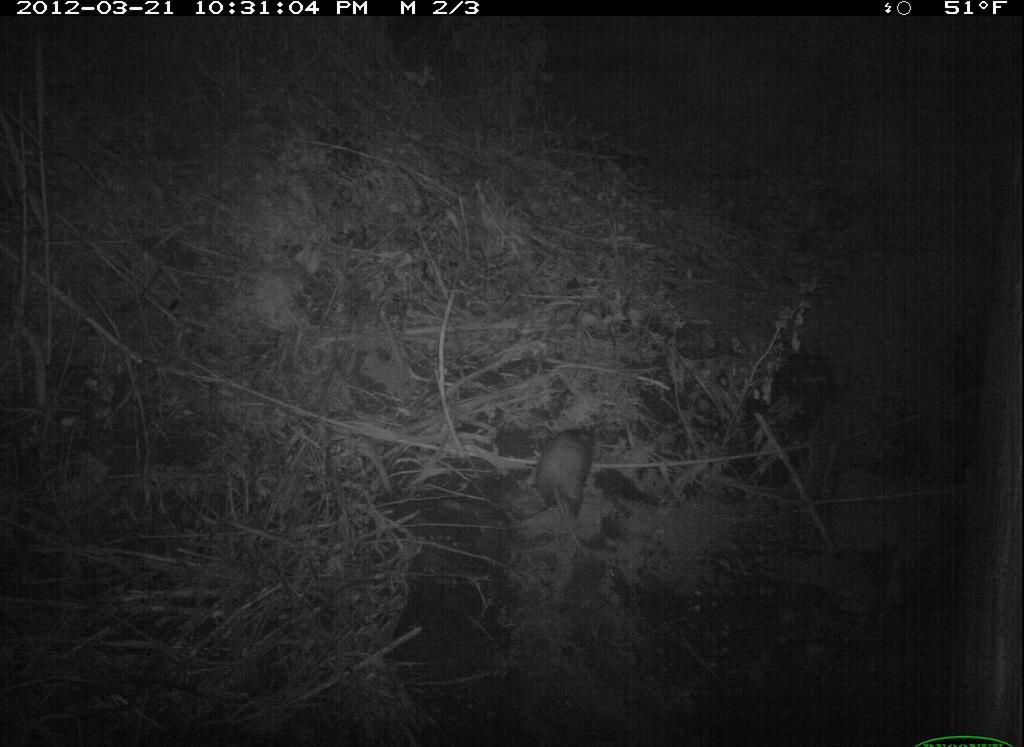opossum: (534, 414, 613, 565)
